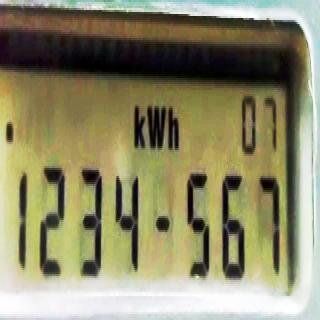-: (154, 205, 170, 239), (5, 114, 14, 150)
0: (240, 92, 258, 164)
1: (16, 167, 29, 278)
2: (38, 156, 66, 282)
3: (79, 162, 105, 280)
4: (114, 164, 143, 279)
5: (185, 164, 212, 286)
6: (220, 167, 247, 286)
7: (258, 168, 284, 282), (262, 91, 280, 158)
